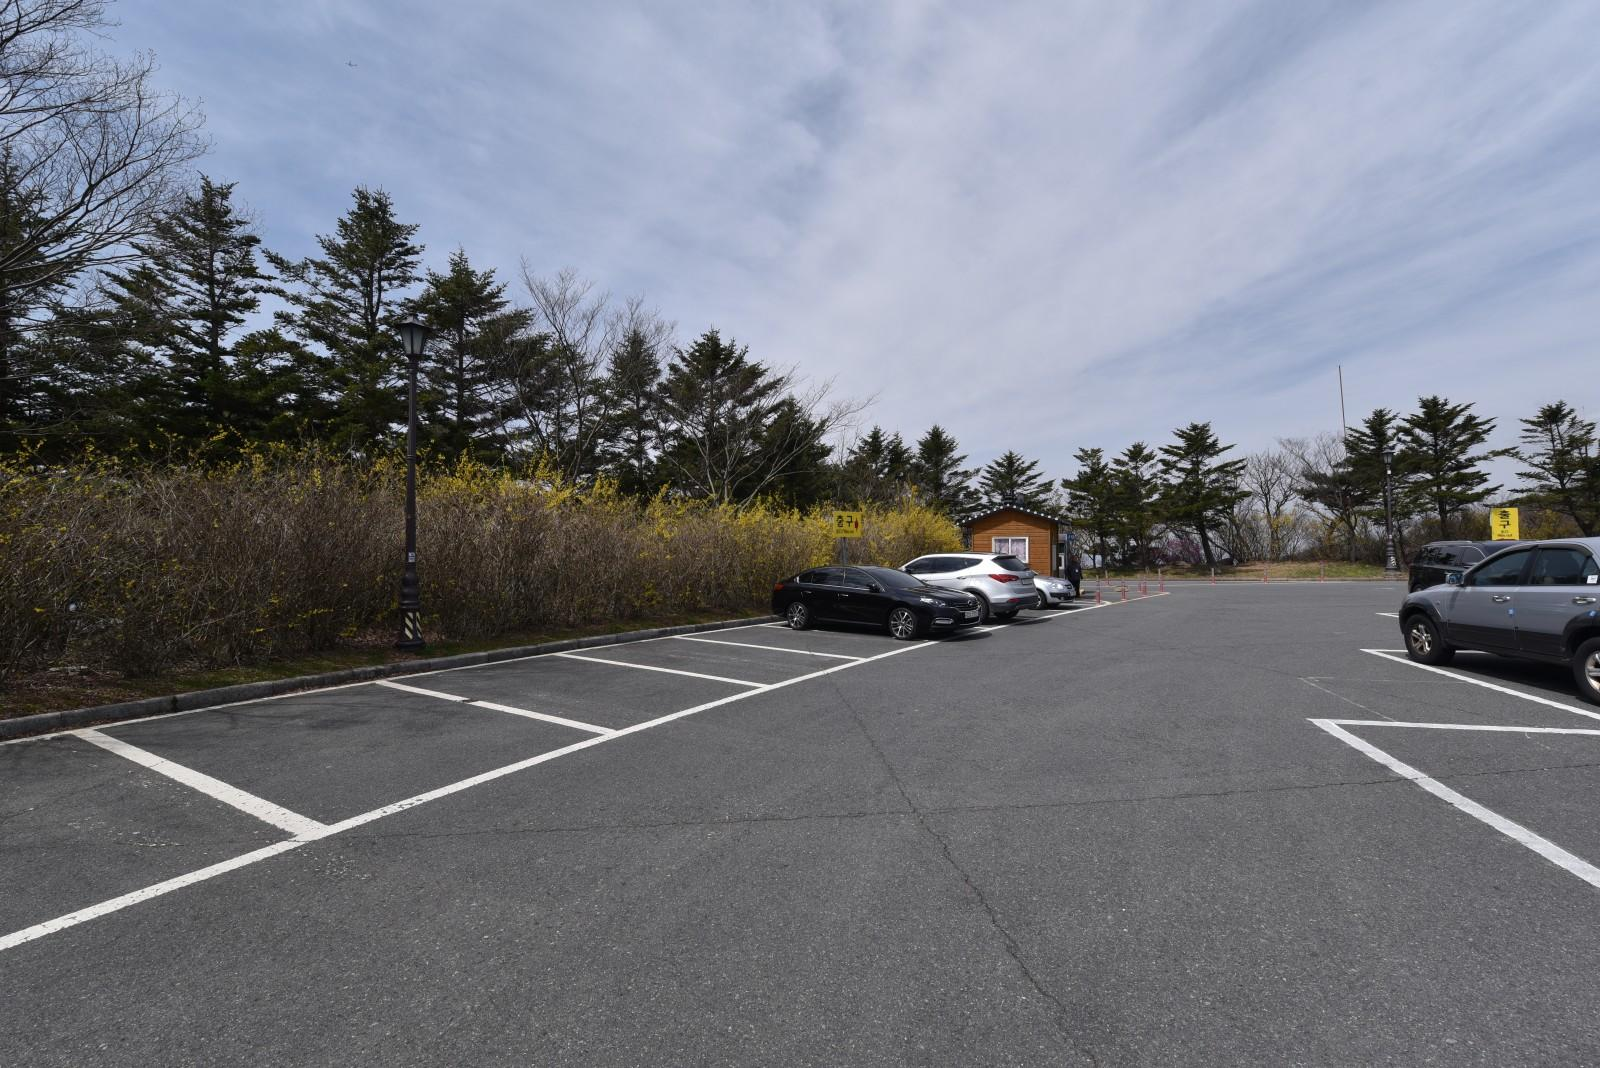empty: (82, 683, 575, 818), (417, 657, 730, 743), (592, 643, 860, 687), (717, 623, 932, 663)
